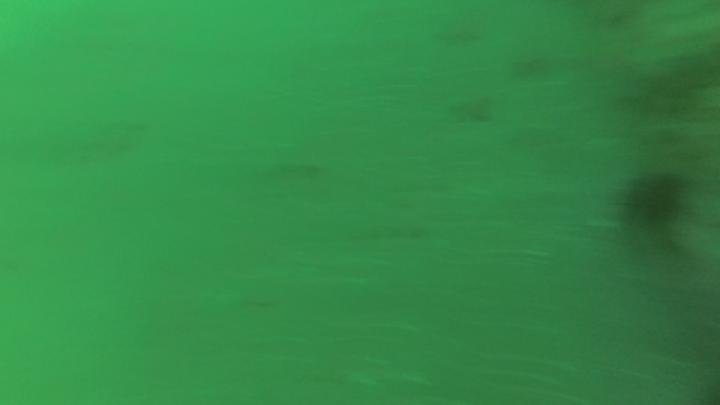echinus: (617, 165, 690, 235)
